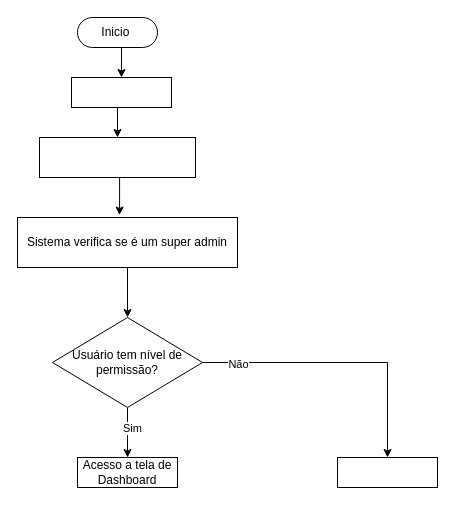
Image size: 455x505. Some labels were removed from this diagram. The box of each missing label's shape, as (x1, y1, x2, y2) in pixels:
Tela de login: (70, 76, 172, 108)
Usuário inseri as credencias: (38, 136, 196, 178)
